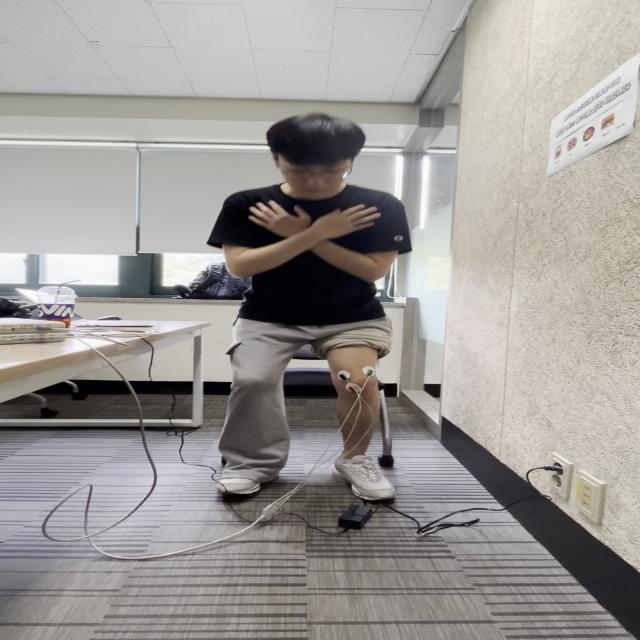stand: (225, 189, 395, 449), (221, 320, 385, 416), (222, 320, 296, 497), (328, 320, 395, 504)
